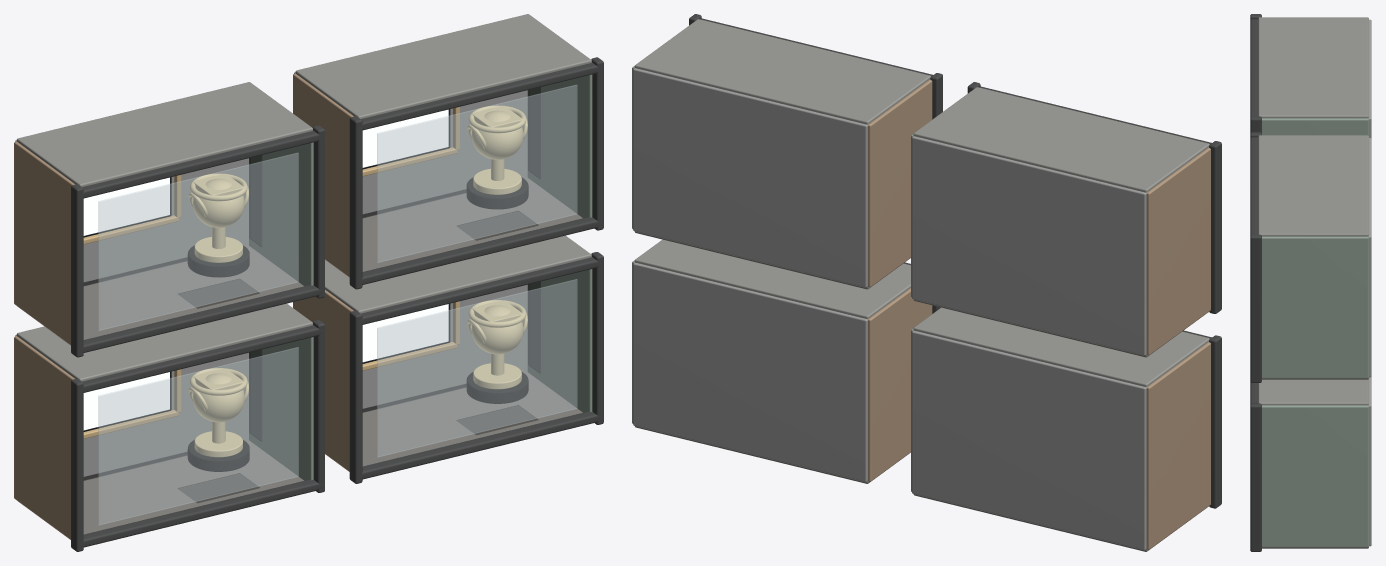
File: gallery-room.glb
The picture shows the model from 3 angles, left to right: view 1: azimuth 30°, elevation 25°; view 2: azimuth 150°, elevation 25°; view 3: azimuth 270°, elevation 25°; orthographic projection. The views are drawn at different scales.
Parts seen in each view (by area): view 1: slot-3.glass, slot-2.glass, slot-0.glass, slot-1.glass, slot-0.room.ceiling, slot-1.room.ceiling, slot-0.room.left-wall, slot-2.room.left-wall, slot-2.room.floor, slot-0.room.floor, slot-1.room.floor, slot-3.room.floor (+56 smaller); view 2: slot-3.room.back-wall, slot-2.room.back-wall, slot-0.room.back-wall, slot-1.room.back-wall, slot-0.room.ceiling, slot-1.room.ceiling, slot-0.room.left-wall, slot-2.room.left-wall, slot-2.room.ceiling, slot-1.room.left-wall, slot-3.room.ceiling, slot-3.room.left-wall (+2 smaller); view 3: slot-1.room.right-wall, slot-3.room.right-wall, slot-0.room.ceiling, slot-1.room.ceiling, slot-3.room.ceiling, slot-0.room.right-wall, slot-1.front-frame.right, slot-3.front-frame.right, slot-1.front-frame.top, slot-0.front-frame.top, slot-1.room.back-wall, slot-3.room.back-wall (+5 smaller).
Boxes of the visible parts, <box> form: slot-3.glass: <box>377,279,577,457</box>; slot-2.glass: <box>98,347,298,525</box>; slot-0.glass: <box>98,153,298,330</box>; slot-1.glass: <box>377,85,577,262</box>; slot-0.room.ceiling: <box>16,82,312,186</box>; slot-1.room.ceiling: <box>295,14,591,118</box>; slot-0.room.left-wall: <box>14,141,75,345</box>; slot-2.room.left-wall: <box>14,336,74,539</box>; slot-2.room.floor: <box>18,440,303,539</box>; slot-0.room.floor: <box>17,245,303,345</box>; slot-1.room.floor: <box>326,177,582,277</box>; slot-3.room.floor: <box>325,372,582,471</box>; slot-3.room.back-wall: <box>633,262,867,482</box>; slot-2.room.back-wall: <box>912,330,1146,550</box>; slot-0.room.back-wall: <box>912,136,1146,355</box>; slot-1.room.back-wall: <box>633,68,867,287</box>; slot-0.room.ceiling: <box>913,87,1209,192</box>; slot-1.room.ceiling: <box>634,19,930,124</box>; slot-0.room.left-wall: <box>1146,147,1210,355</box>; slot-2.room.left-wall: <box>1146,342,1210,549</box>; slot-2.room.ceiling: <box>913,307,1209,387</box>; slot-1.room.left-wall: <box>868,79,932,287</box>; slot-3.room.ceiling: <box>634,239,910,319</box>; slot-3.room.left-wall: <box>868,288,932,481</box>; slot-1.room.right-wall: <box>1262,236,1368,378</box>; slot-3.room.right-wall: <box>1262,405,1368,547</box>; slot-0.room.ceiling: <box>1258,17,1368,118</box>; slot-1.room.ceiling: <box>1258,135,1368,236</box>; slot-3.room.ceiling: <box>1258,379,1368,405</box>; slot-0.room.right-wall: <box>1262,118,1368,135</box>; slot-1.front-frame.right: <box>1250,234,1261,382</box>; slot-3.front-frame.right: <box>1250,403,1261,551</box>; slot-1.front-frame.top: <box>1250,137,1258,235</box>; slot-0.front-frame.top: <box>1250,19,1258,116</box>; slot-1.room.back-wall: <box>1368,138,1371,377</box>; slot-3.room.back-wall: <box>1368,377,1371,546</box>.
Bounding box in the file's own units: 7.27 × 4.78 × 1.67.
